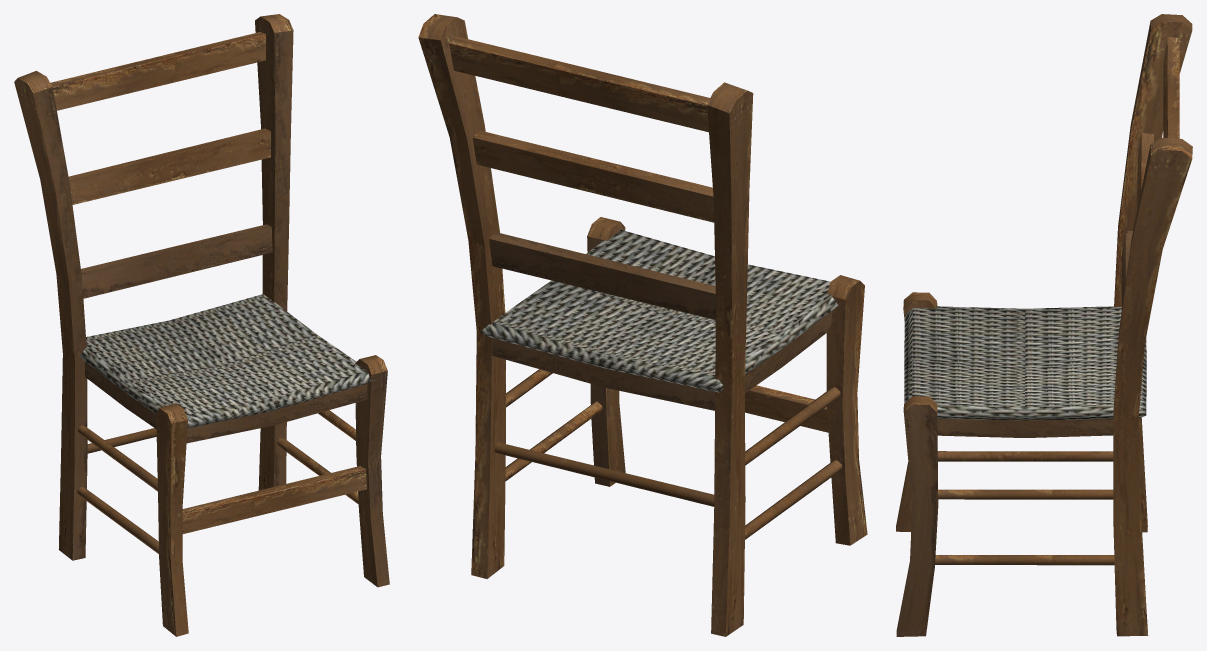
File: wooden_chair.glb
3 views of the same model, side by side, from view 1: azimuth 30°, elevation 25°; view 2: azimuth 150°, elevation 25°; view 3: azimuth 270°, elevation 25° (orthographic). The views are drawn at different scales.
Visible parts, largest first — view 1: node_id37; view 2: node_id37; view 3: node_id37.
Boxes of the visible parts, left/top/right/bottom form: node_id37: left=14, top=14, right=389, bottom=636; node_id37: left=418, top=14, right=867, bottom=636; node_id37: left=896, top=14, right=1192, bottom=636.
Bounding box in the file's own units: 0.2982 × 0.512 × 0.2745.
Materials: 1 (1 with a texture image).
